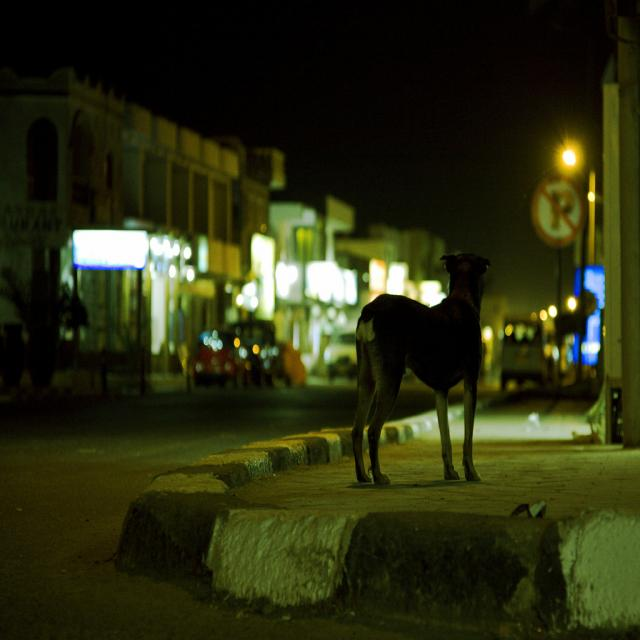Dog: (336, 239, 524, 505)
